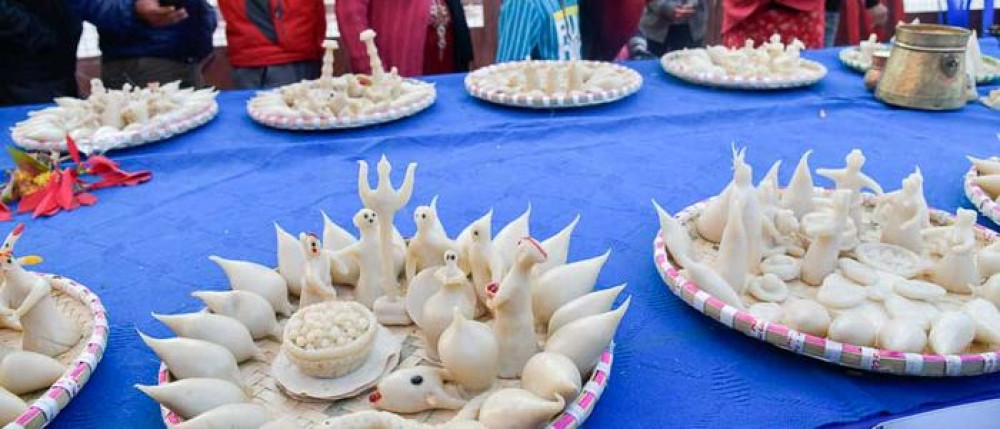yomari: (128, 323, 232, 376), (207, 252, 294, 314), (554, 297, 633, 357), (137, 373, 244, 405), (445, 308, 487, 387), (550, 249, 616, 295), (676, 256, 737, 304), (781, 146, 823, 213), (187, 397, 270, 429), (471, 393, 571, 418), (648, 201, 689, 260), (723, 202, 748, 290), (491, 197, 534, 246), (207, 338, 280, 363), (316, 207, 353, 256), (548, 209, 582, 260), (269, 218, 309, 261), (242, 313, 284, 337)
